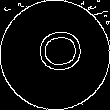O_W: (27, 31, 83, 79)
